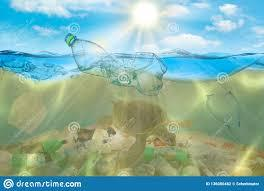Plastic: (55, 21, 180, 102)
